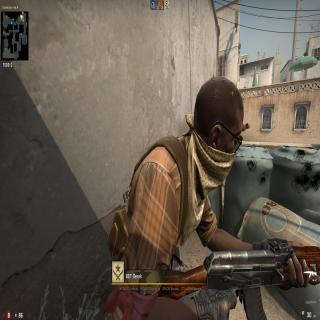T-Head: (189, 73, 245, 198)
